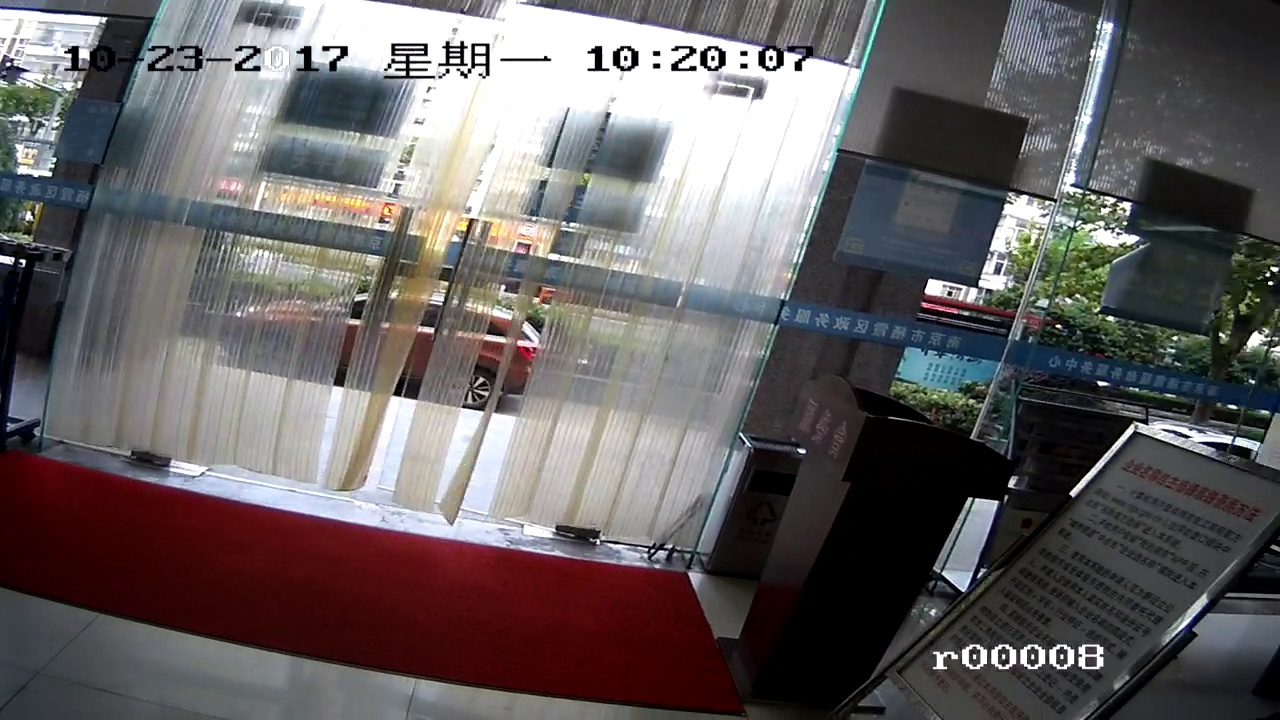billboard: (1048, 424, 1237, 689)
desk: (794, 383, 899, 641)
